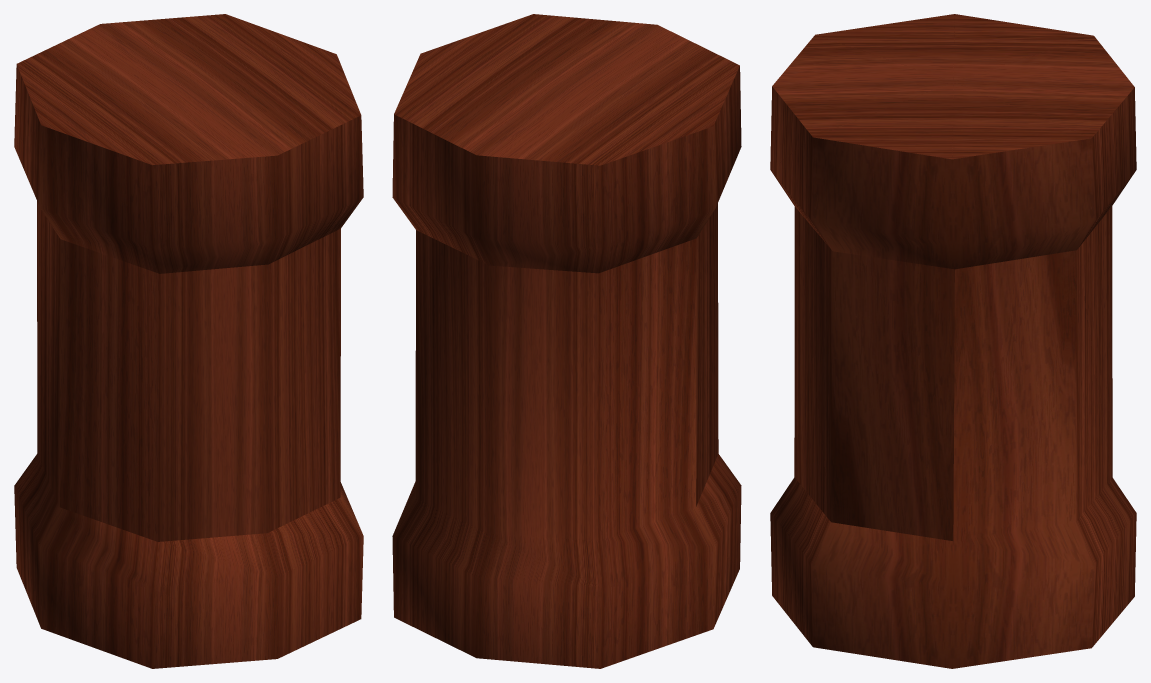
Rendered from Hammer.fbx.
3 views of the same model, side by side, from view 1: azimuth 30°, elevation 25°; view 2: azimuth 150°, elevation 25°; view 3: azimuth 270°, elevation 25° (orthographic).
Visible parts, largest first — view 1: Gavel; view 2: Gavel; view 3: Gavel.
Part boxes in pixels (bbox=[...]): Gavel: bbox=[14, 14, 363, 668]; Gavel: bbox=[392, 14, 741, 668]; Gavel: bbox=[770, 14, 1136, 668].
Size of the model in its own units: 70.91 by 117 by 74.68.
Materials: 1 (1 with a texture image).
